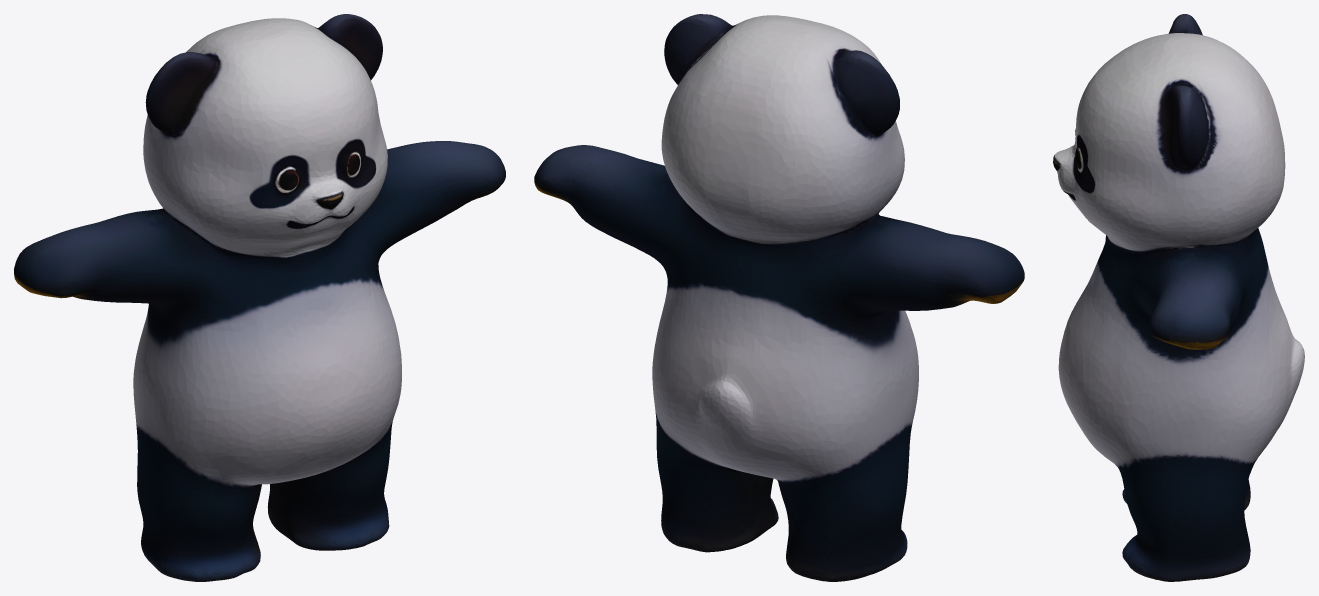
3 views of the same model, side by side, from view 1: azimuth 30°, elevation 25°; view 2: azimuth 150°, elevation 25°; view 3: azimuth 270°, elevation 25° (orthographic). The views are drawn at different scales.
Parts seen in each view (by area): view 1: textured_mesh.obj; view 2: textured_mesh.obj; view 3: textured_mesh.obj.
Boxes of the visible parts, x1=… form: textured_mesh.obj: x1=14, y1=14, x2=505, y2=581; textured_mesh.obj: x1=534, y1=14, x2=1024, y2=581; textured_mesh.obj: x1=1053, y1=14, x2=1304, y2=581.
Bounding box in the file's own units: 1.92 × 1.99 × 0.9341.
Materials: 1 (1 with a texture image).
